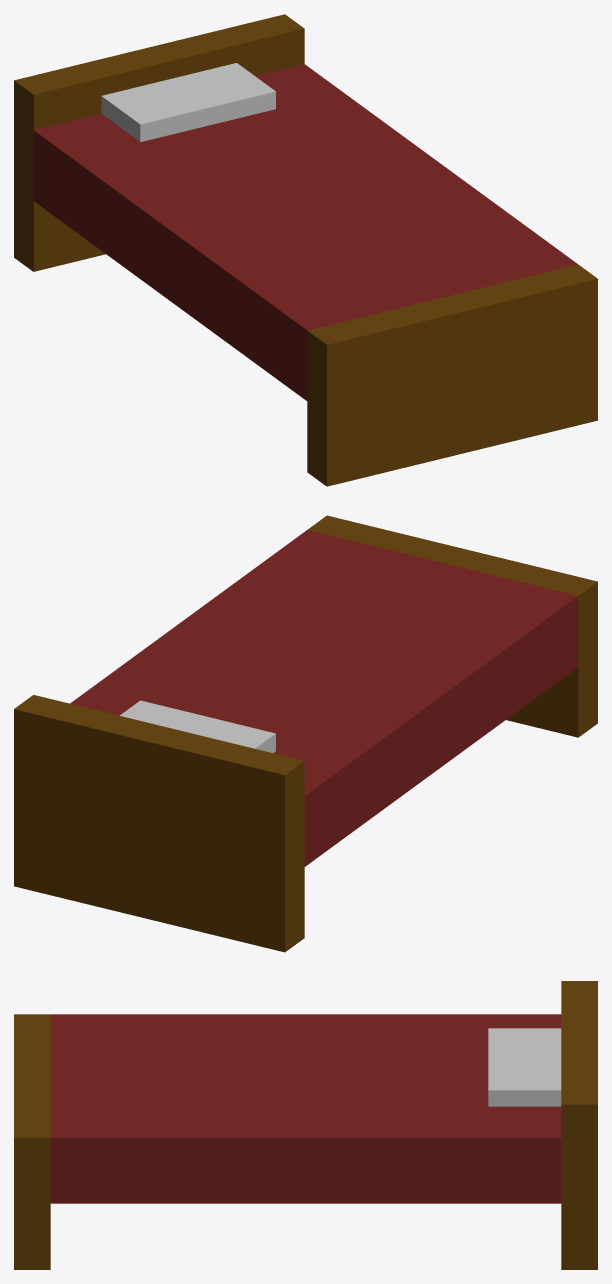
Rendered from Bed.fbx.
3 views of the same model, one above another, from view 1: azimuth 30°, elevation 25°; view 2: azimuth 150°, elevation 25°; view 3: azimuth 270°, elevation 25° (orthographic). The views are drawn at different scales.
Visible parts, largest first — view 1: Bed; view 2: Bed; view 3: Bed.
Boxes of the visible parts, x1,y1,x2,y2 form: Bed: (14,14,597,486); Bed: (14,515,597,952); Bed: (14,981,597,1269).
Size of the model in its own units: 200 by 125 by 400.
